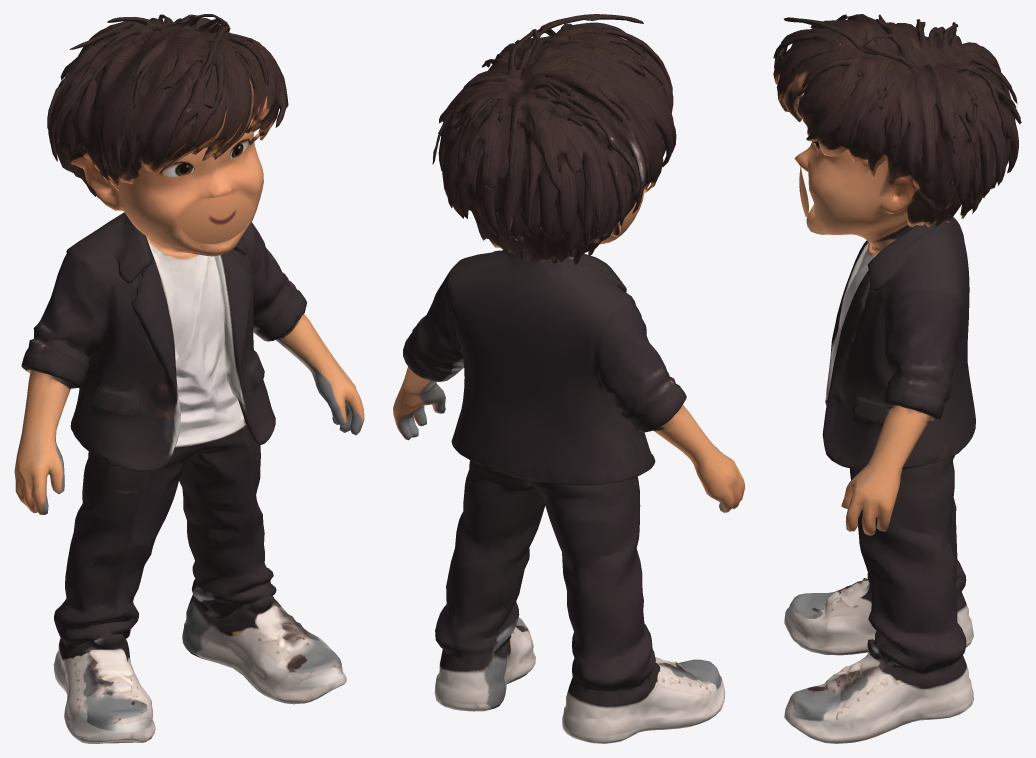
File: matsui.glb
The picture shows the model from 3 angles, left to right: view 1: azimuth 30°, elevation 25°; view 2: azimuth 150°, elevation 25°; view 3: azimuth 270°, elevation 25°; orthographic projection.
Visible parts, largest first — view 1: tripo_node_22d92a0b-8cac-4b2c-ba74-a7b87a97624d; view 2: tripo_node_22d92a0b-8cac-4b2c-ba74-a7b87a97624d; view 3: tripo_node_22d92a0b-8cac-4b2c-ba74-a7b87a97624d.
Boxes of the visible parts, <box> form: tripo_node_22d92a0b-8cac-4b2c-ba74-a7b87a97624d: <box>14,14,364,743</box>; tripo_node_22d92a0b-8cac-4b2c-ba74-a7b87a97624d: <box>393,14,744,743</box>; tripo_node_22d92a0b-8cac-4b2c-ba74-a7b87a97624d: <box>773,14,1021,743</box>.
Size of the model in its own units: 0.524 by 0.9996 by 0.3378.
Materials: 1 (1 with a texture image).
